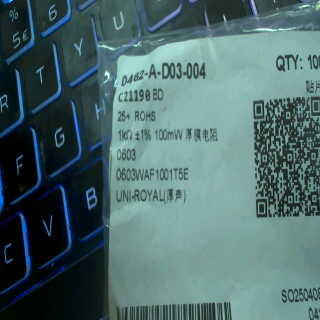1kR: (118, 127, 135, 143)
